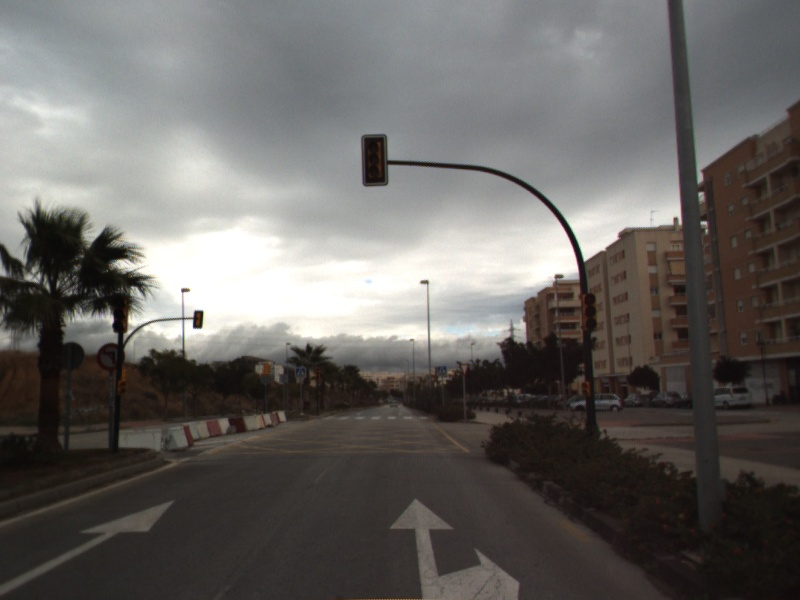STRAIGHT: (1, 498, 177, 597)
STRAIGHT_RIGHT: (387, 495, 522, 600)
